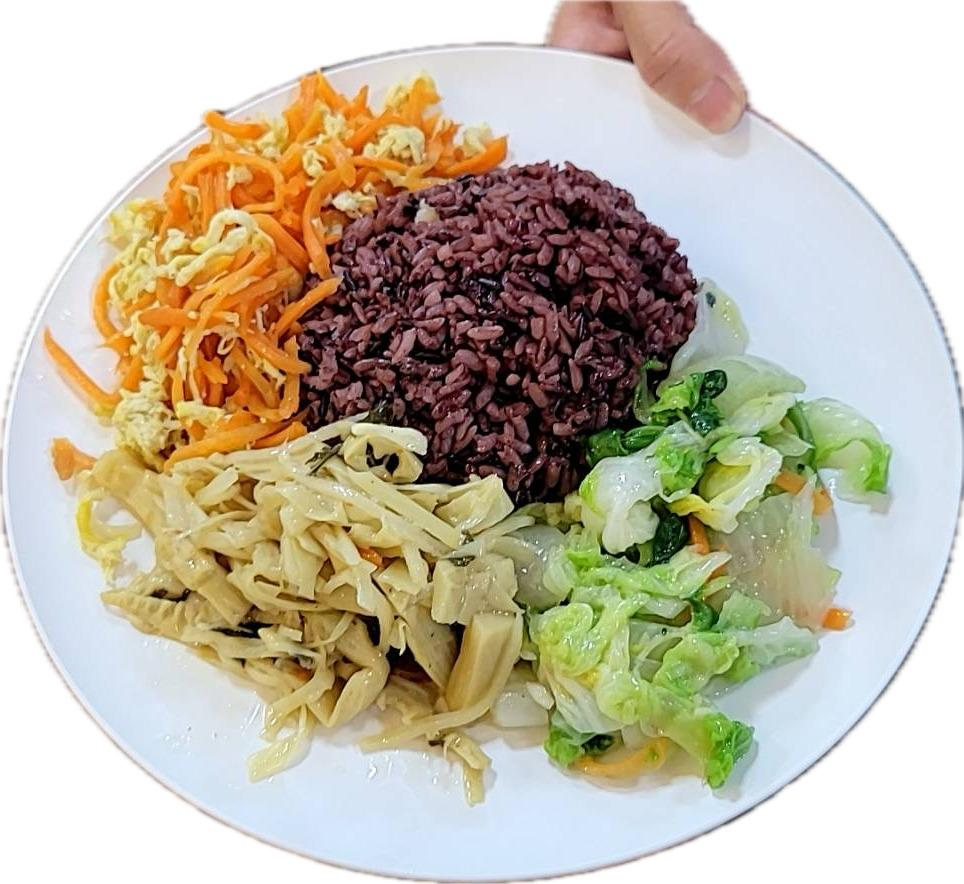big fried chicken leg: (4, 42, 964, 884)
braised fish: (300, 162, 704, 492)
braised fish fillet: (517, 284, 896, 789), (58, 410, 541, 786), (75, 72, 500, 452)
